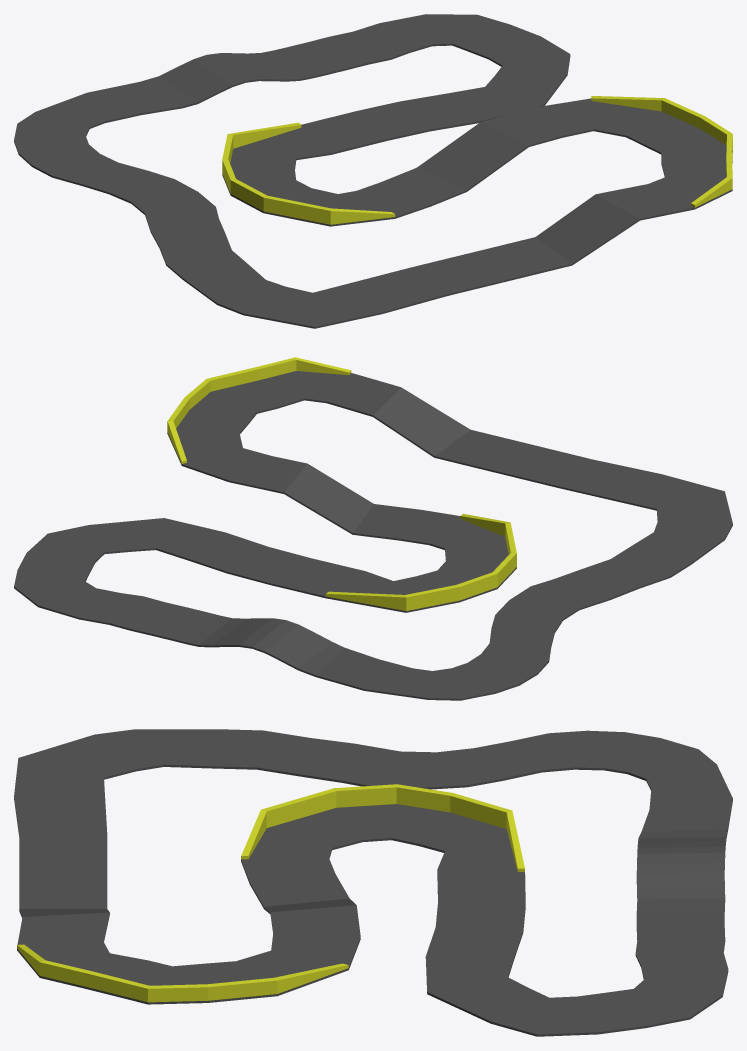
File: track-5.glb
The picture shows the model from 3 angles, top to bottom: view 1: azimuth 30°, elevation 25°; view 2: azimuth 150°, elevation 25°; view 3: azimuth 270°, elevation 25°; orthographic projection. The views are drawn at different scales.
Parts seen in each view (by area): view 1: road; view 2: road; view 3: road.
Part boxes in pixels (x1,y1,x2,y2): road: [14, 14, 732, 328]; road: [14, 357, 732, 700]; road: [14, 729, 732, 1036].
Bounding box in the file's own units: 75.07 × 5.54 × 74.59.
